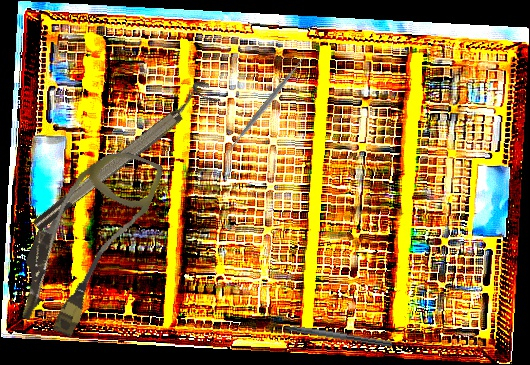Cannula: (5, 131, 166, 347)
Chopper: (264, 315, 395, 347)
Fixation Ring: (24, 76, 221, 235)
Spatula Surgical: (217, 49, 314, 163)
